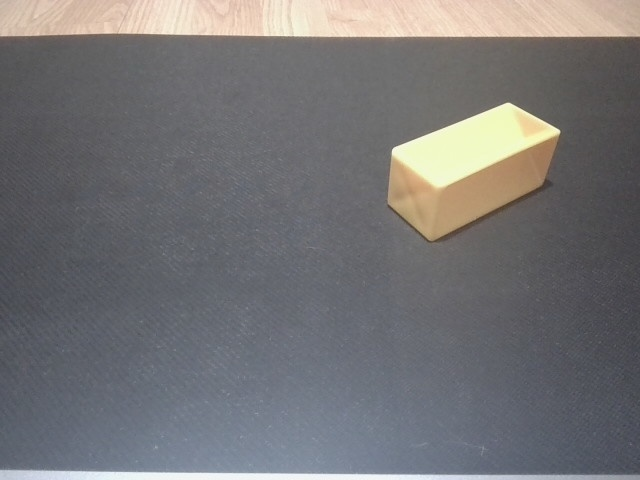YellowSample: (384, 98, 565, 244)
